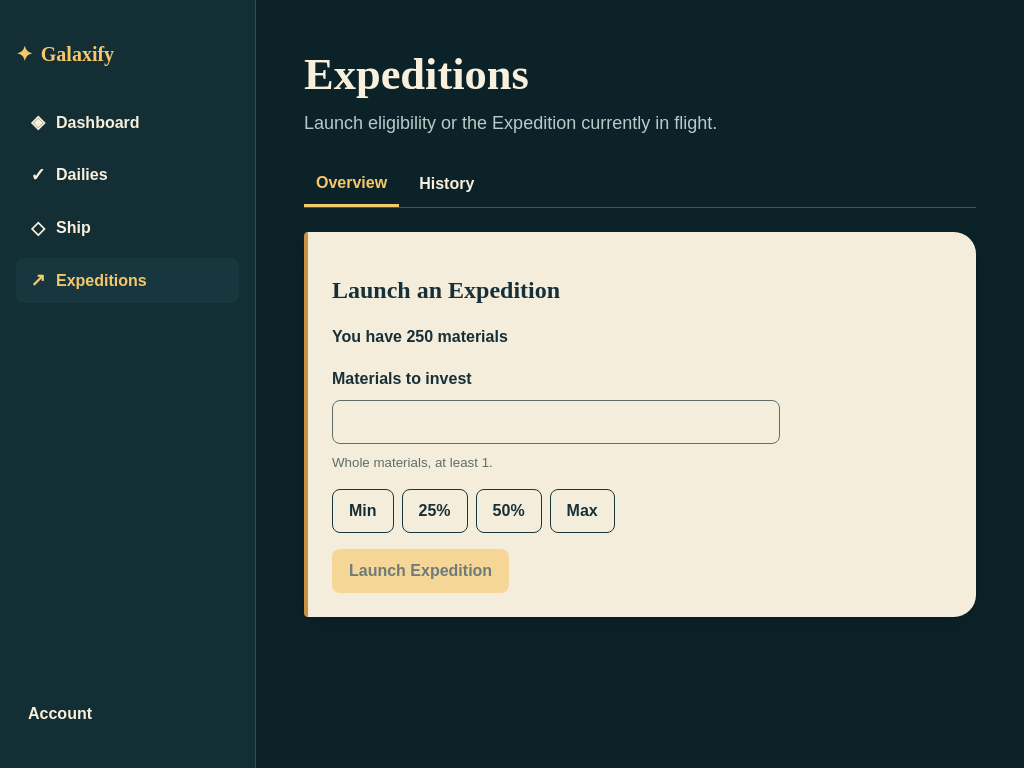
Expeditions overview — launch form › shows a retryable preparing quote when the quote endpoint is not ready
The width and height of the screenshot is (1024, 768).
Expected: the heading "Expeditions" is shown, [304, 49, 529, 99]
Expected: the text "You have 250 materials" is shown, [332, 328, 508, 345]
Type "40" into the number field labelled "Materials to invest".
click(556, 422); type("40")  # box [332, 400, 780, 444]
Wait 1300 ms
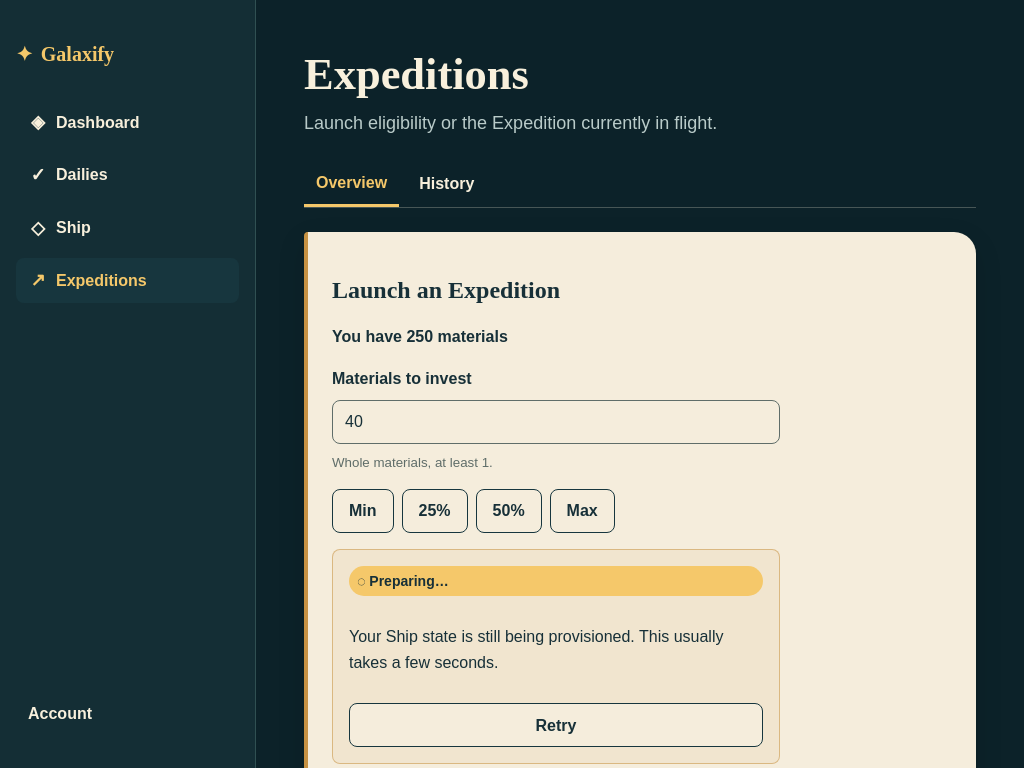
Expected: the button "Retry" is shown, [349, 704, 763, 748]
